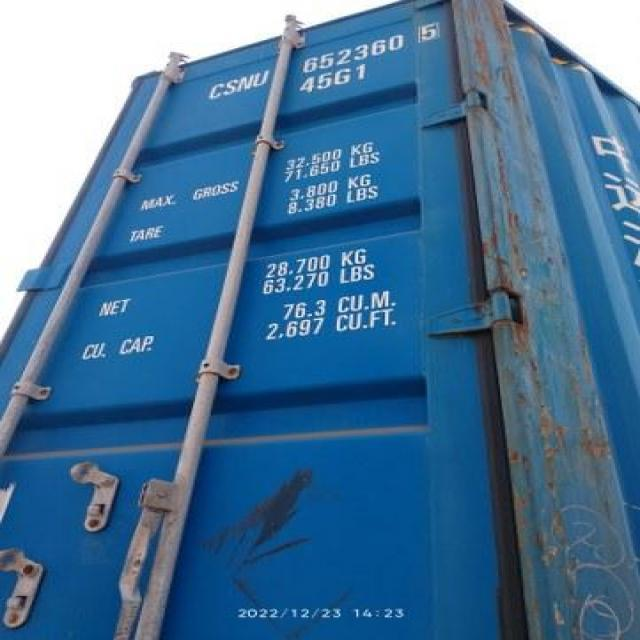ISO: (299, 60, 366, 103)
container_number: (205, 13, 436, 103)
